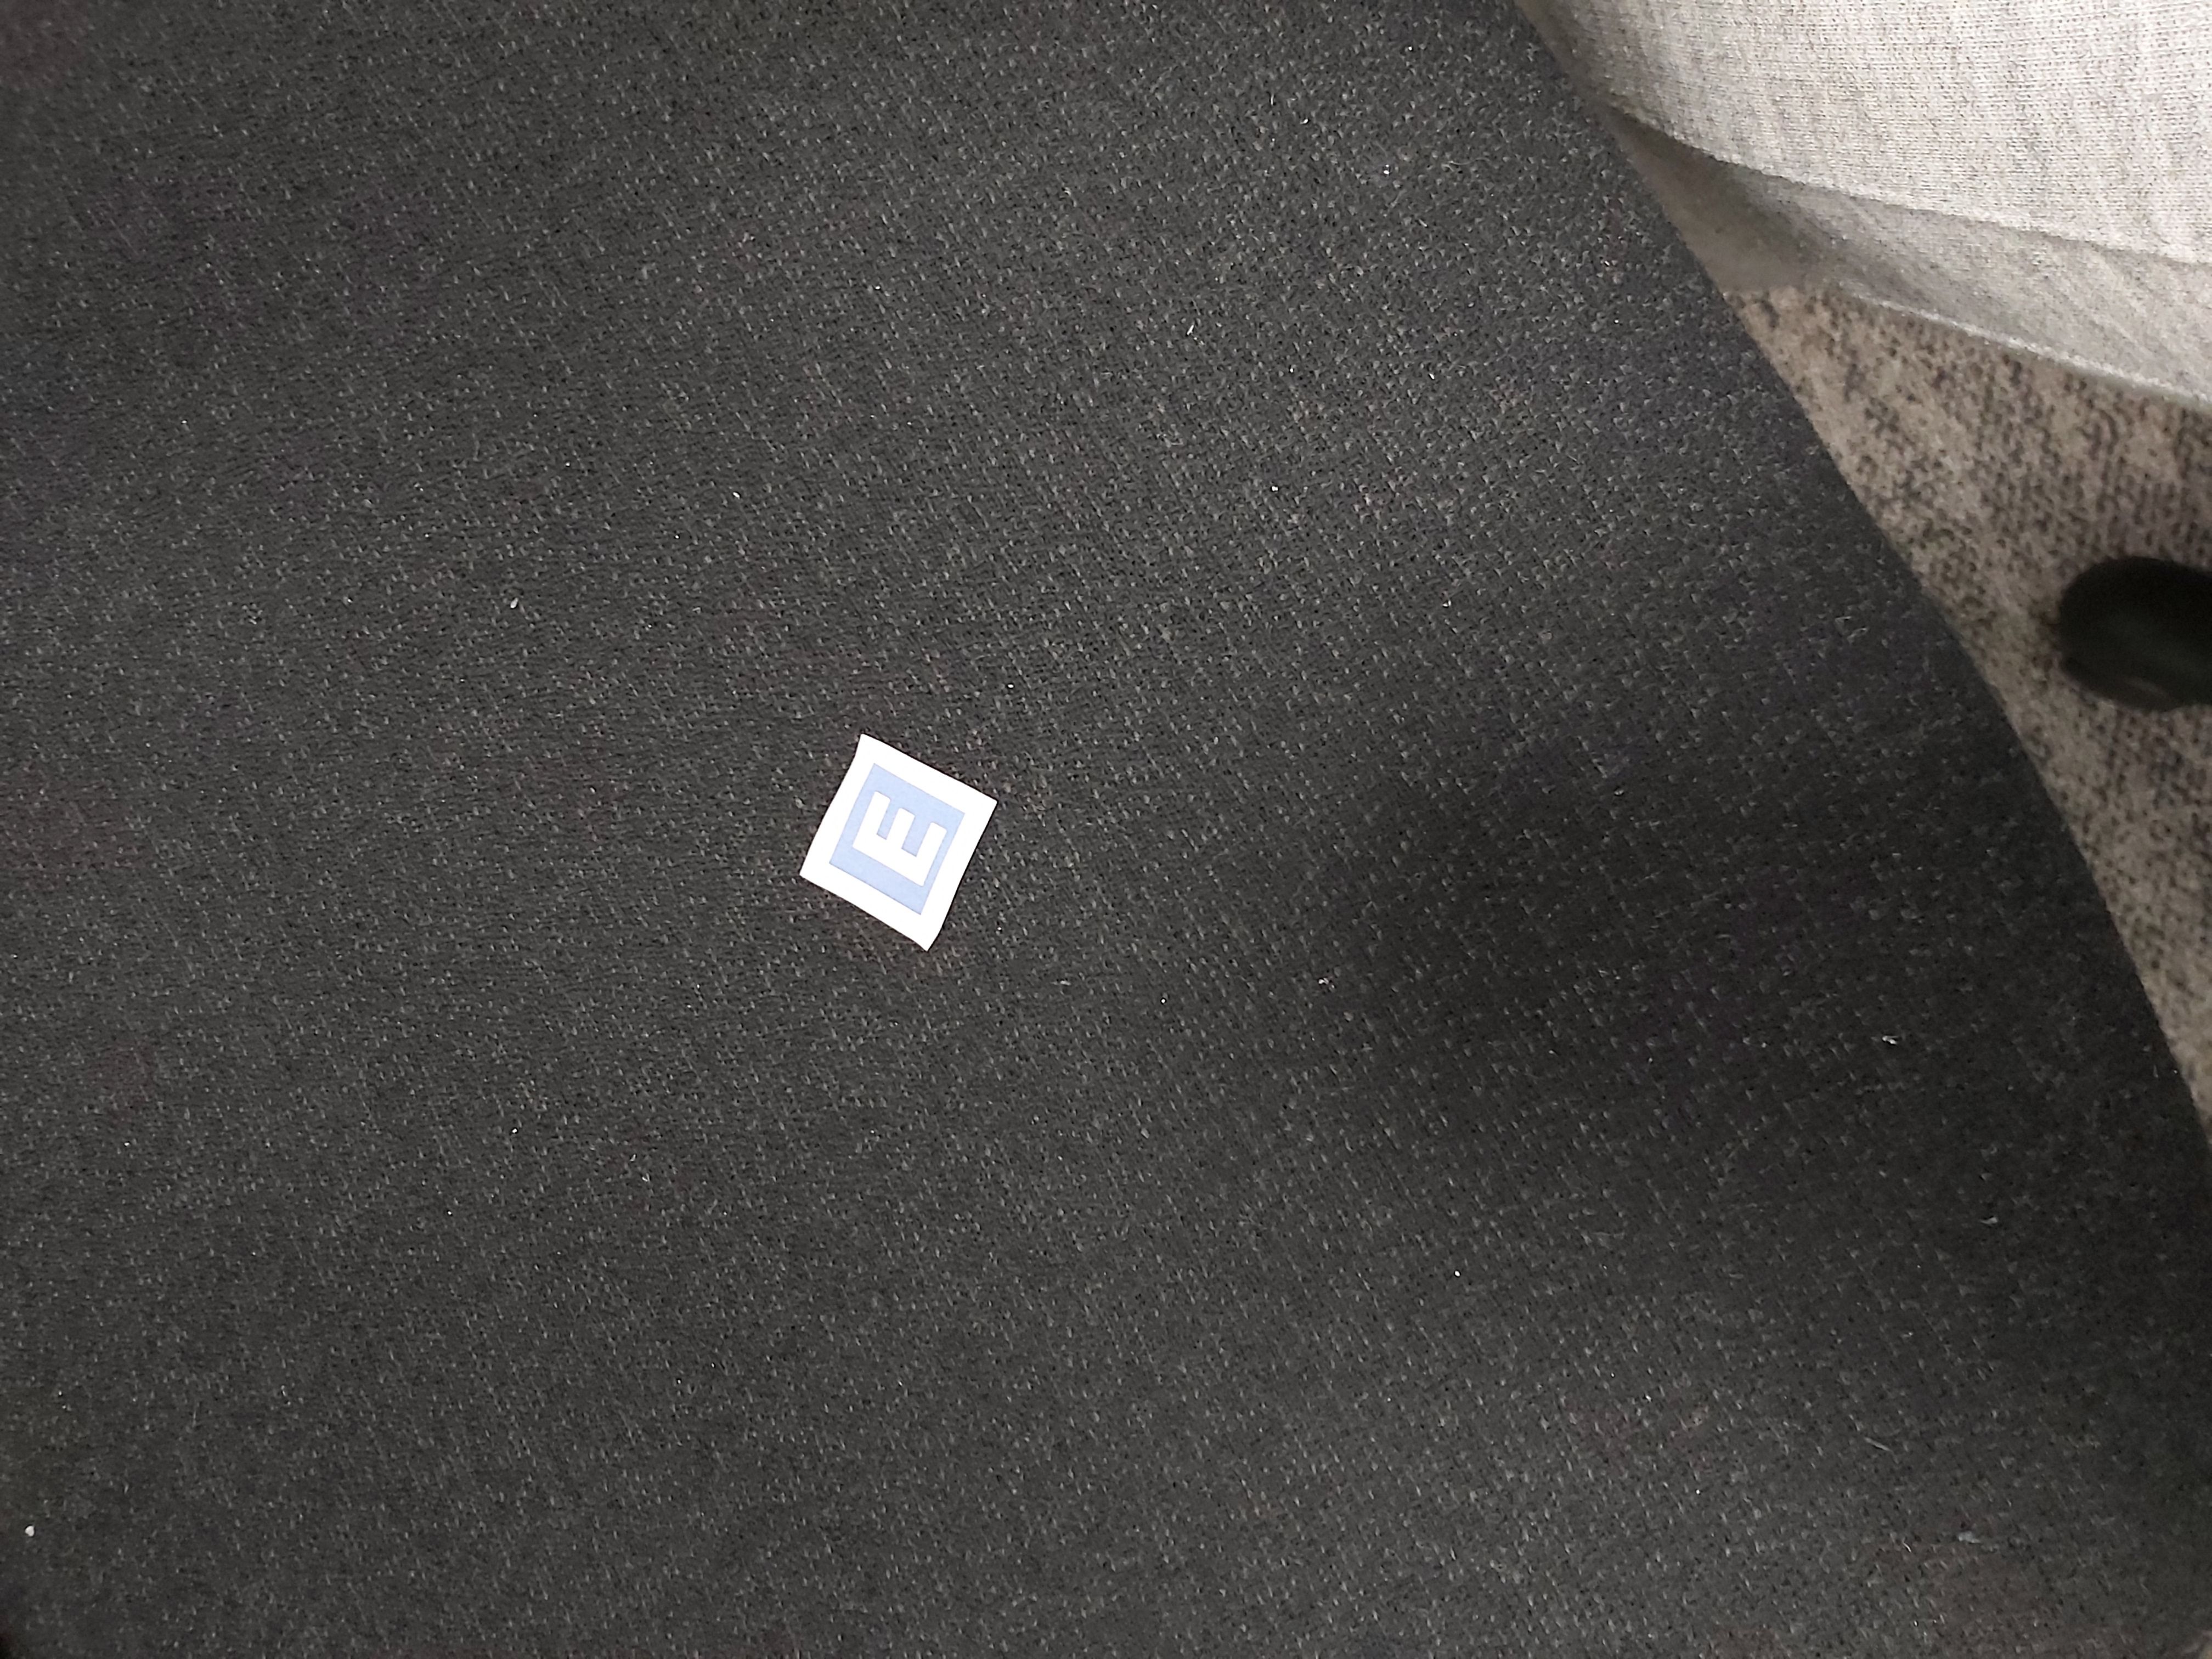blue marker: (787, 732, 1003, 967)
